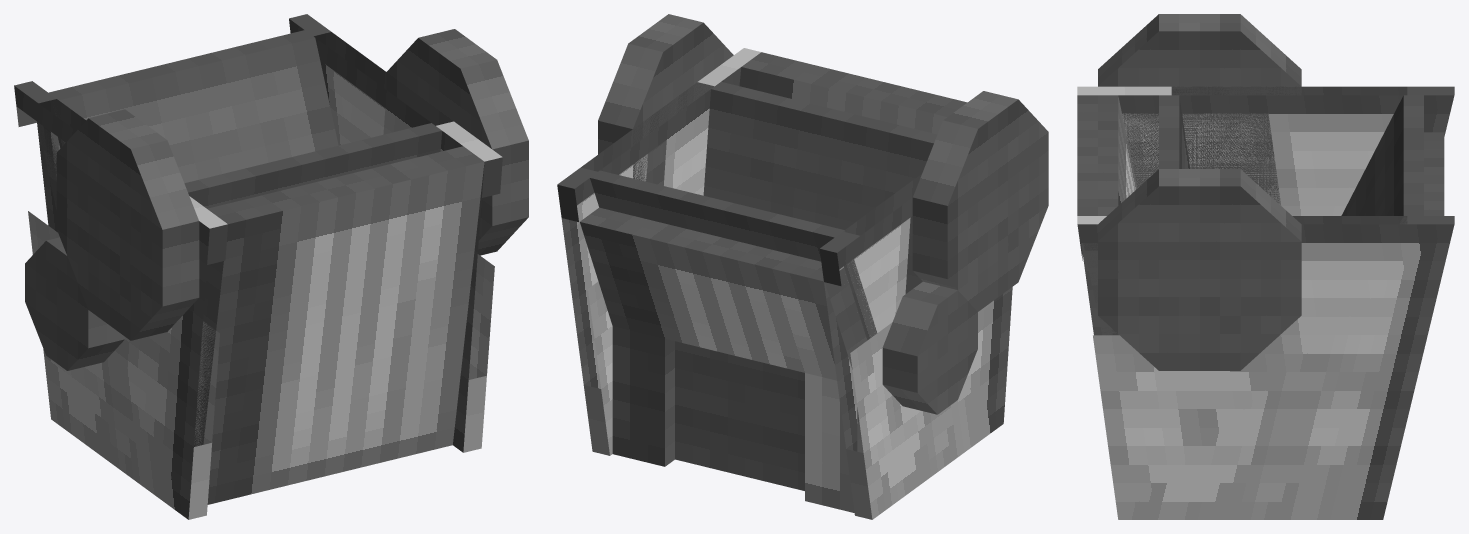
File: jaw_crusher.obj
The picture shows the model from 3 angles, left to right: view 1: azimuth 30°, elevation 25°; view 2: azimuth 150°, elevation 25°; view 3: azimuth 270°, elevation 25°; orthographic projection. The views are drawn at different scales.
Visible parts, largest first — view 1: Body, Wall2, StationaryPlate, Wheel3, Wheel1, Wall1, Plate, Wheel2, smallw2, smallw1, smallw3, Body2; view 2: Body2, Wall2, Plate, Wall1, Wheel2, Body5, Wheel1, StationaryPlate, Body, Body3, Body4, smallw3 (+3 smaller); view 3: Wall1, Wheel1, Wall2, Wheel2, Wheel3, Body, StationaryPlate, Plate, Body2.
Part boxes in pixels (box(x1,y1,x2,y2)): Body: box(194, 146, 484, 504); Wall2: box(14, 81, 227, 519); StationaryPlate: box(49, 30, 338, 183); Wheel3: box(130, 60, 528, 340); Wheel1: box(88, 29, 496, 340); Wall1: box(289, 14, 502, 452); Plate: box(184, 123, 442, 208); Wheel2: box(56, 38, 418, 308); smallw2: box(67, 257, 124, 370); smallw1: box(46, 237, 67, 370); smallw3: box(25, 241, 46, 355); Body2: box(37, 123, 56, 209); Body2: box(580, 207, 867, 380); Wall2: box(819, 174, 1012, 519); Plate: box(703, 81, 937, 293); Wall1: box(557, 48, 761, 455); Wheel2: box(598, 43, 977, 311); Body5: box(675, 341, 804, 490); Wheel1: box(628, 14, 1018, 311); StationaryPlate: box(590, 170, 877, 340); Body: box(739, 52, 967, 134); Body3: box(612, 326, 674, 466); Body4: box(805, 373, 863, 512); smallw3: box(882, 296, 937, 414); Wall1: box(1077, 216, 1454, 519); Wheel1: box(1159, 14, 1240, 370); Wall2: box(1077, 86, 1454, 215); Wheel2: box(1240, 14, 1301, 370); Wheel3: box(1098, 14, 1158, 370); Body: box(1077, 95, 1137, 335); StationaryPlate: box(1341, 95, 1423, 224); Plate: box(1159, 95, 1189, 168); Body2: box(1424, 132, 1444, 215).
Bounding box in the file's own units: 1.25 × 1.19 × 1.16.
